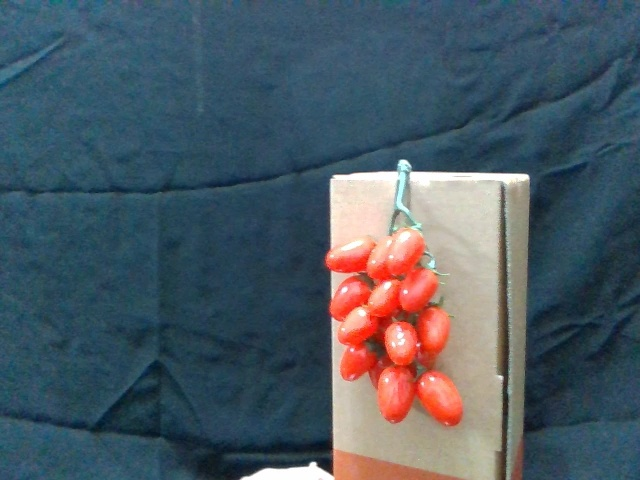tomato: (416, 370, 465, 430), (378, 362, 415, 425), (327, 275, 375, 320), (383, 320, 424, 371), (399, 268, 440, 314), (325, 239, 379, 273), (418, 305, 451, 360), (390, 229, 427, 276), (339, 305, 380, 347), (338, 342, 380, 383), (369, 279, 406, 324)
